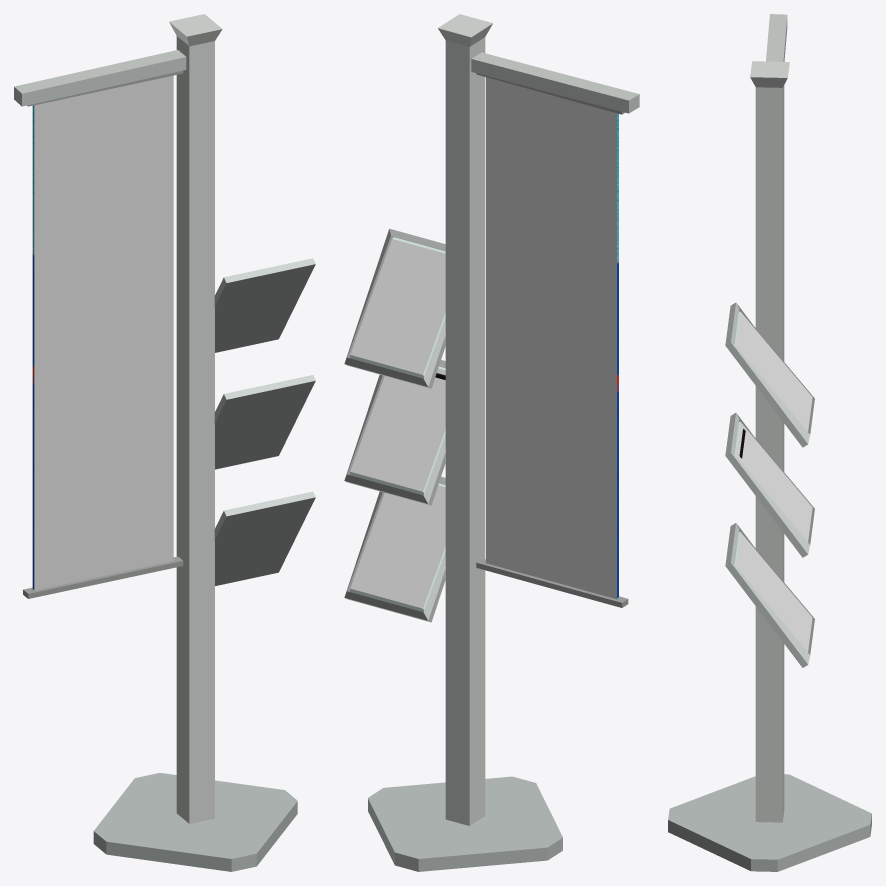
Rendered from Demo_Stand.fbx.
3 renders of one model, left to right at view 1: azimuth 30°, elevation 25°; view 2: azimuth 150°, elevation 25°; view 3: azimuth 270°, elevation 25°, orthographic. The views are drawn at different scales.
Visible parts, largest first — view 1: Demo_Stand; view 2: Demo_Stand; view 3: Demo_Stand.
Part boxes in pixels (left/top/right/bottom): Demo_Stand: left=14, top=14, right=315, bottom=871; Demo_Stand: left=344, top=14, right=639, bottom=871; Demo_Stand: left=668, top=14, right=871, bottom=871.
Bounding box in the file's own units: 64.31 × 180 × 43.76.
